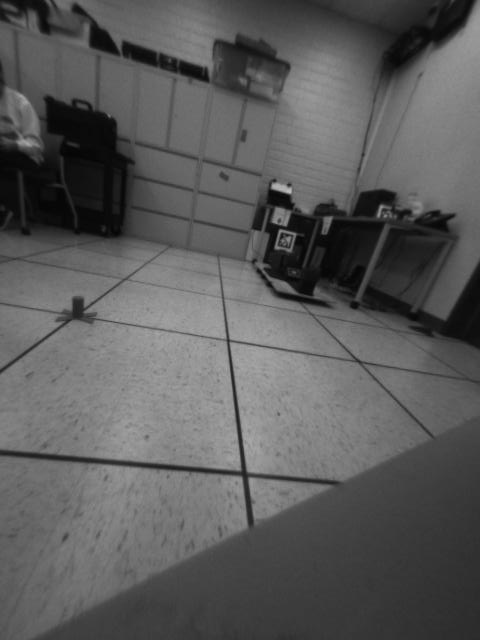X: (53, 296, 99, 329)
